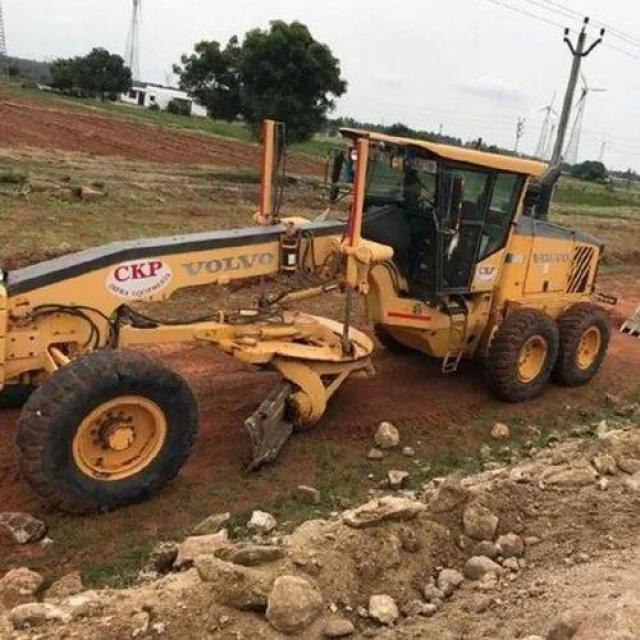Grader: (7, 112, 638, 516)
